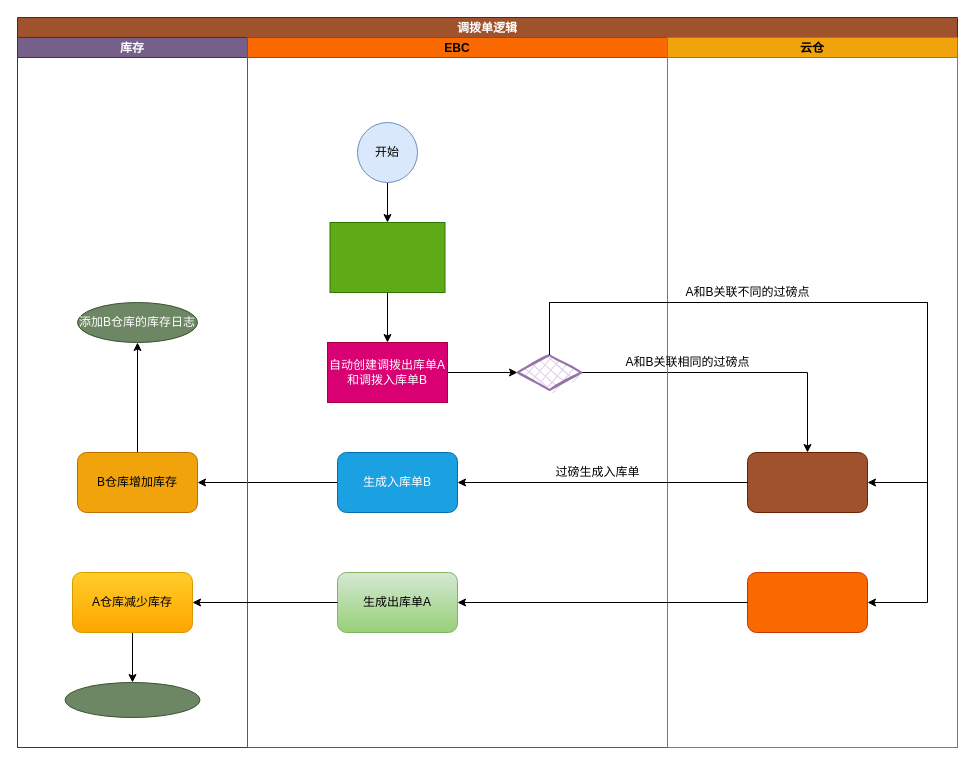
Some shapes in this 975 by 765 pixel diagram are drawn without their labels. Here are the shapes that lost their labels. From the top down, the centre of each, then its label:
At pixel 387 257: "页面创建调拨单".
At pixel 549 372: "判断关联的过磅点是否为同一个".
At pixel 807 482: "生成预约单B".
At pixel 807 602: "生成预约单A".
At pixel 132 700: "添加A仓库库存减少日志".
